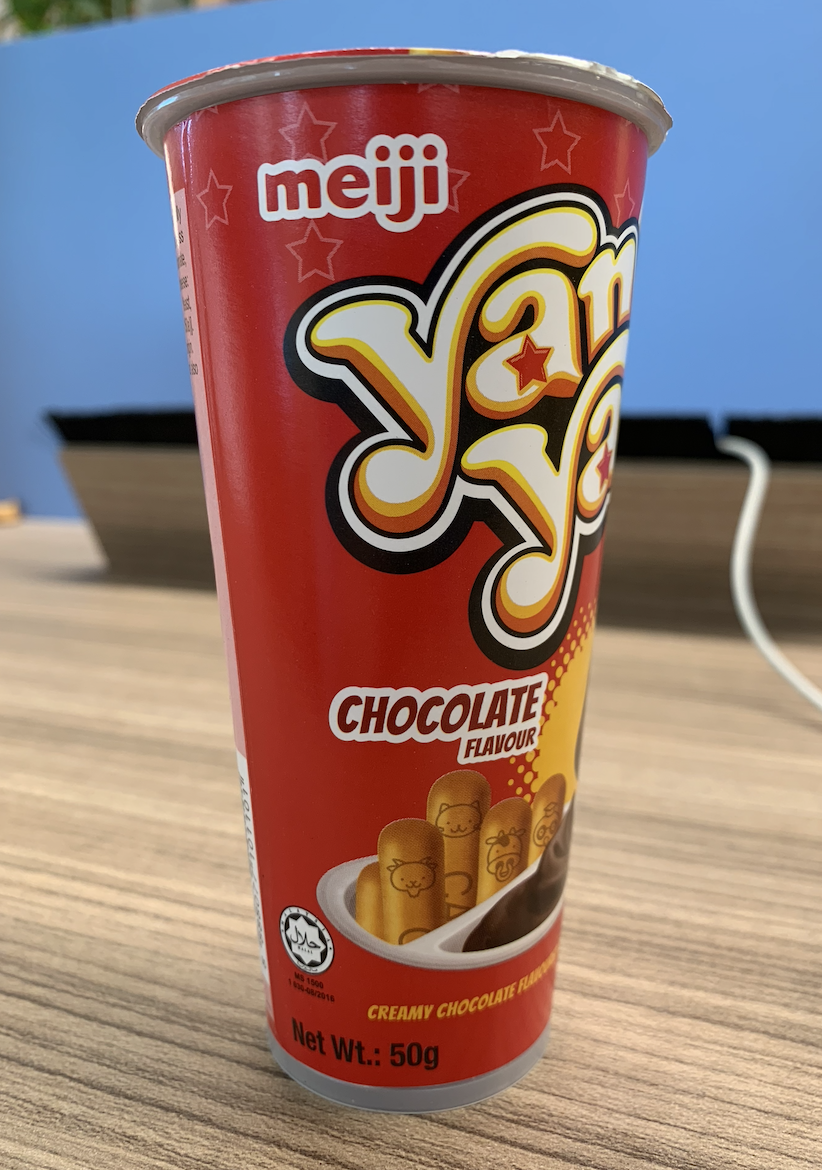cookies_50g: (252, 122, 577, 1086)
